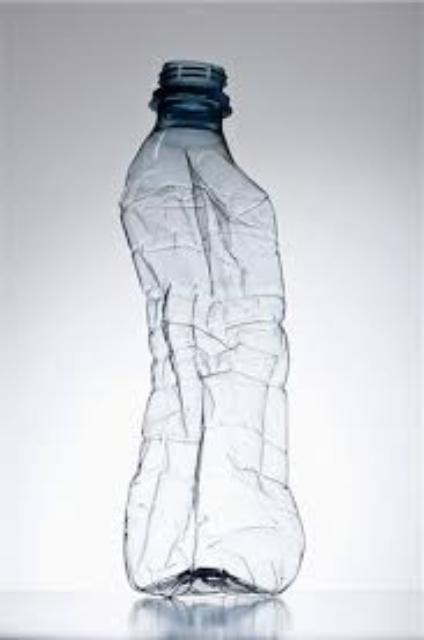plastic: (118, 58, 299, 591)
